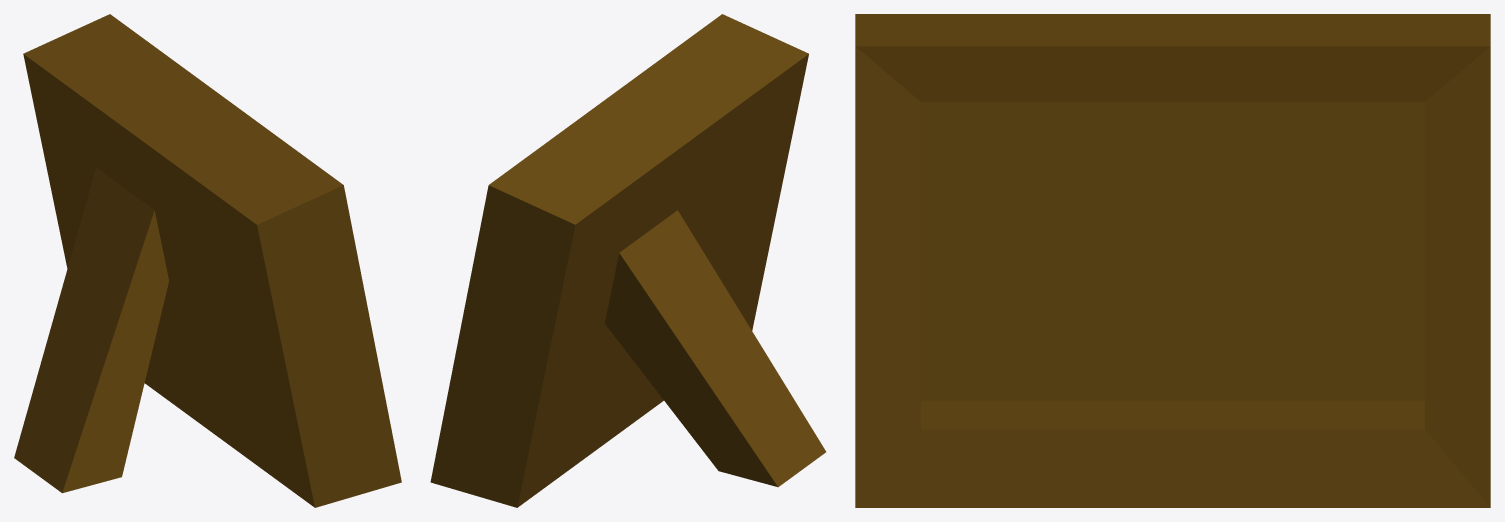
Rendered from pictureframetable01.gltf.
3 renders of one model, left to right at view 1: azimuth 30°, elevation 25°; view 2: azimuth 150°, elevation 25°; view 3: azimuth 270°, elevation 25°, orthographic. The views are drawn at different scales.
Parts seen in each view (by area): view 1: Cube; view 2: Cube; view 3: Cube.
Part boxes in pixels (x1,y1,x2,y2): Cube: (14,14,401,507); Cube: (430,14,825,507); Cube: (855,14,1490,507).
Size of the model in its own units: 0.0566 by 0.0703 by 0.0914.
Materials: 1 (1 with a texture image).
